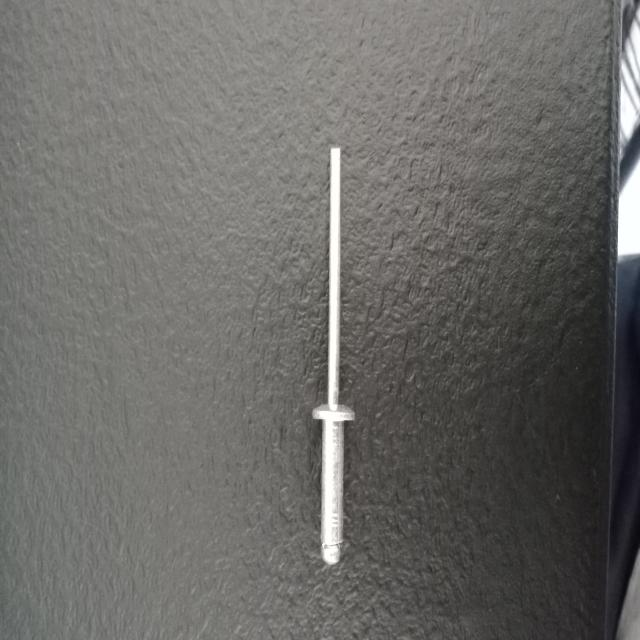rivet: (312, 146, 355, 565)
